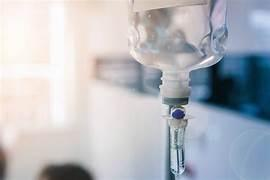Iv_Bottle: (128, 0, 227, 177), (128, 0, 227, 97)
